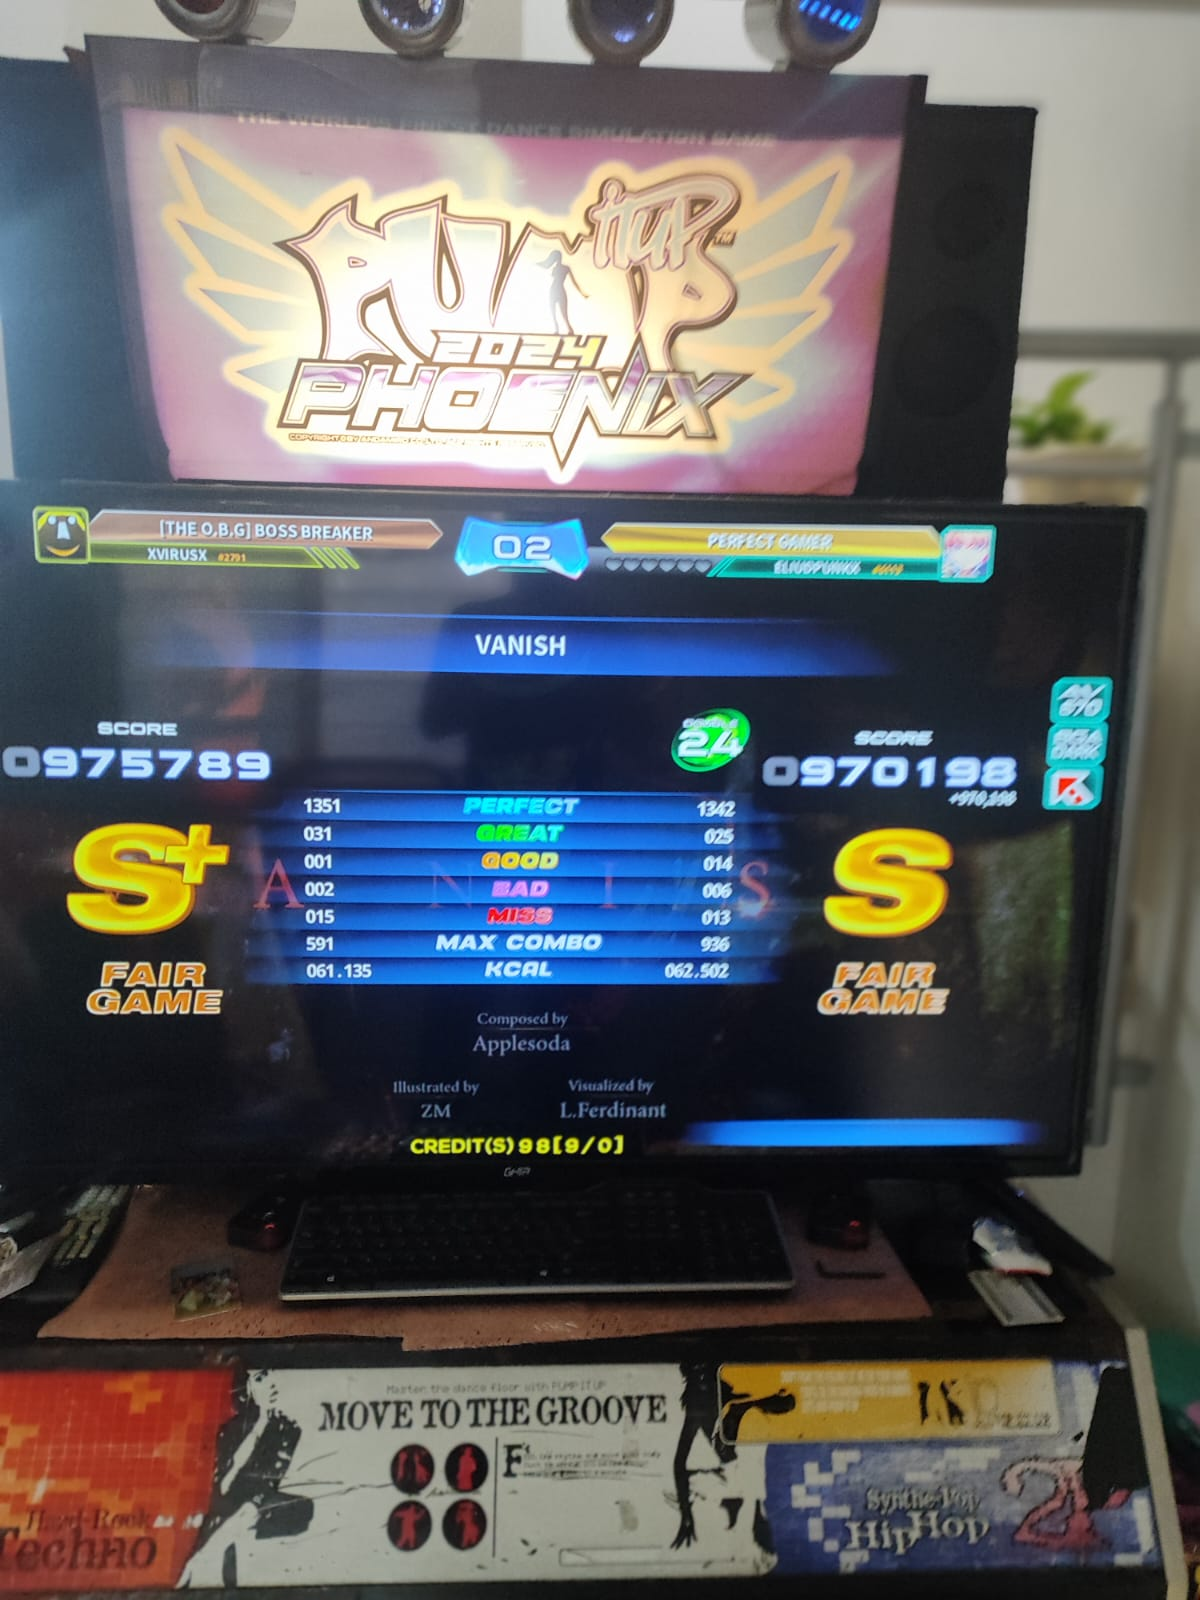difficulty: (638, 692, 776, 776)
fullscore: (418, 474, 1145, 1187)
rank: (782, 805, 988, 964)
score: (747, 723, 1049, 792)
song_name: (339, 617, 668, 675)
